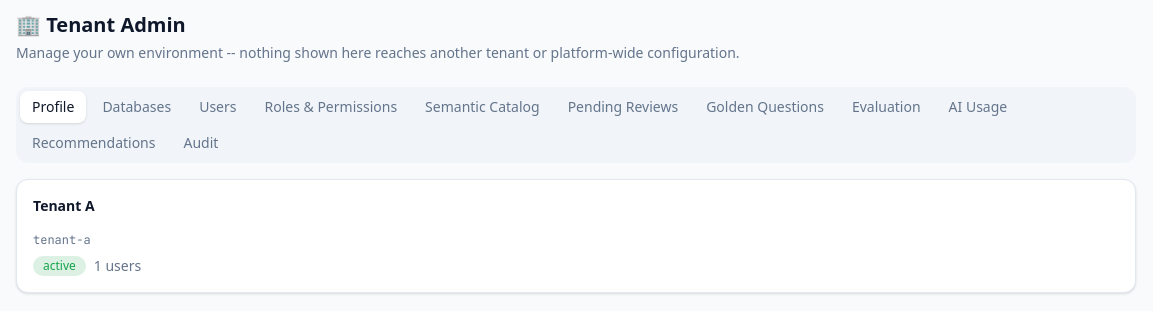
Test: TenantAdmin › shows AI usage reused from the existing performance-metrics route
The image size is (1153, 311).
Click the tab "AI Usage": click(978, 107) [937,91,1019,123]
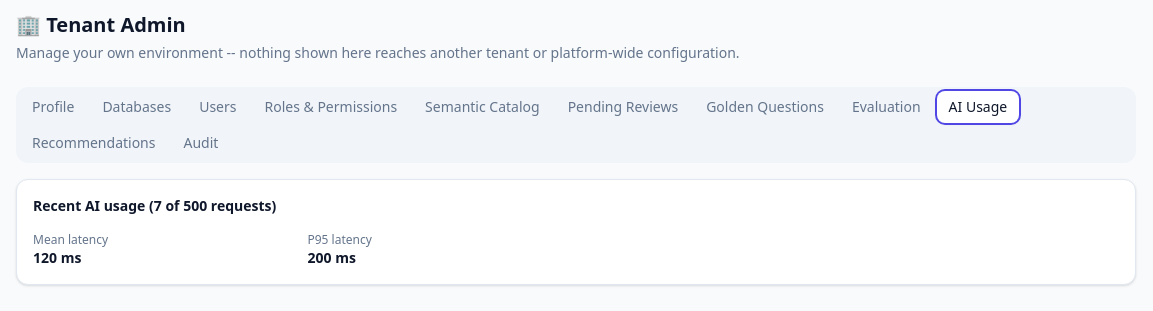
Check: the heading "Recent AI usage (7 of 500 requests)" is shown, box [33,196,276,215]
